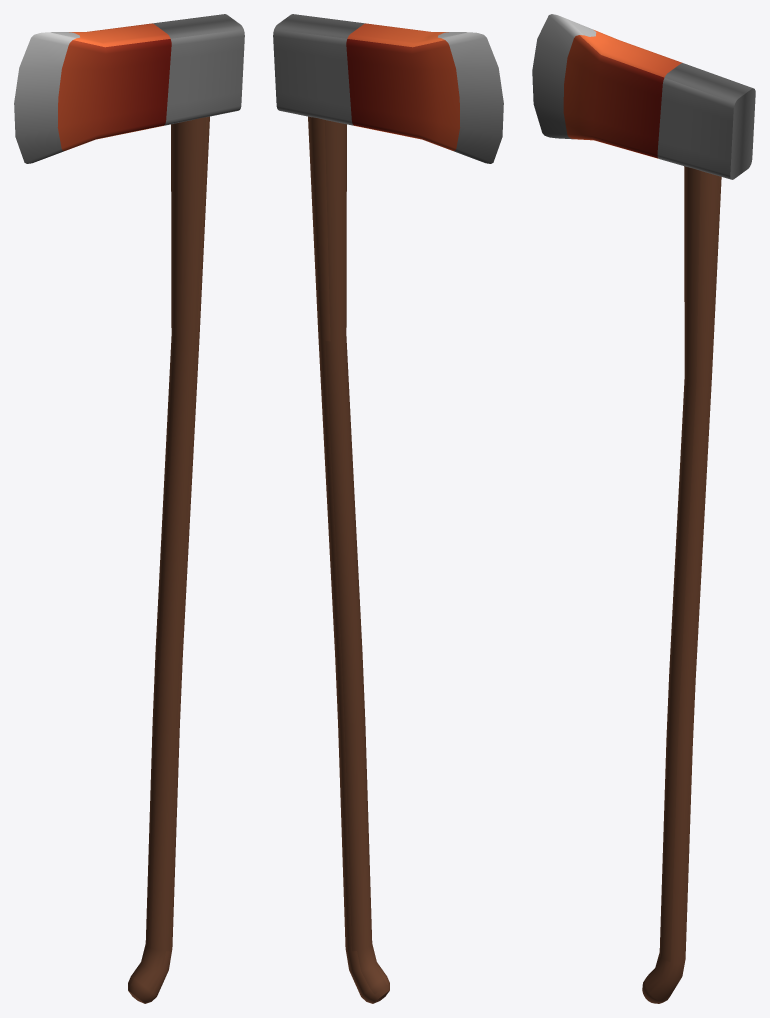
The model's file is Swinging Axe.fbx.
3 renders of one model, left to right at view 1: azimuth 30°, elevation 25°; view 2: azimuth 150°, elevation 25°; view 3: azimuth 330°, elevation 25°, orthographic. The views are drawn at different scales.
Parts seen in each view (by area): view 1: Circle; view 2: Circle; view 3: Circle.
Boxes of the visible parts, left/top/right/bottom form: Circle: left=14, top=14, right=244, bottom=1003; Circle: left=273, top=14, right=503, bottom=1003; Circle: left=532, top=14, right=755, bottom=1003.
Size of the model in its own units: 0.9383 by 4.06 by 0.1677.
Materials: 1 (1 with a texture image).
